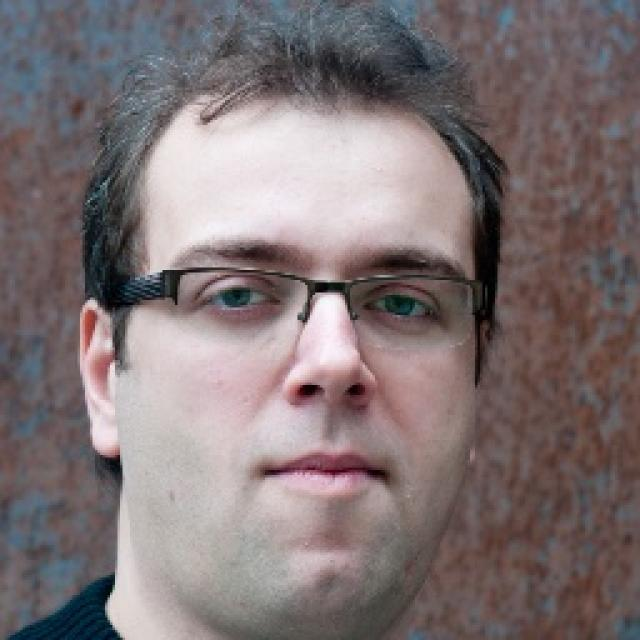earlobe: (90, 397, 122, 458)
eye: (198, 281, 280, 315), (362, 292, 438, 325)
nose: (285, 372, 382, 436)
wholeear: (79, 298, 123, 457)
